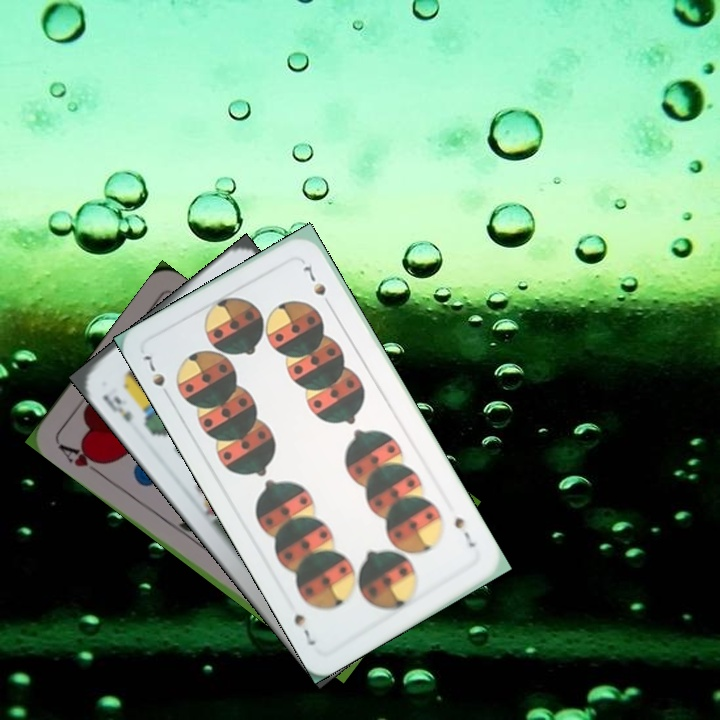EK: (98, 390, 135, 425)
HA: (54, 439, 110, 479)
S7: (138, 351, 174, 402), (450, 513, 478, 550)
